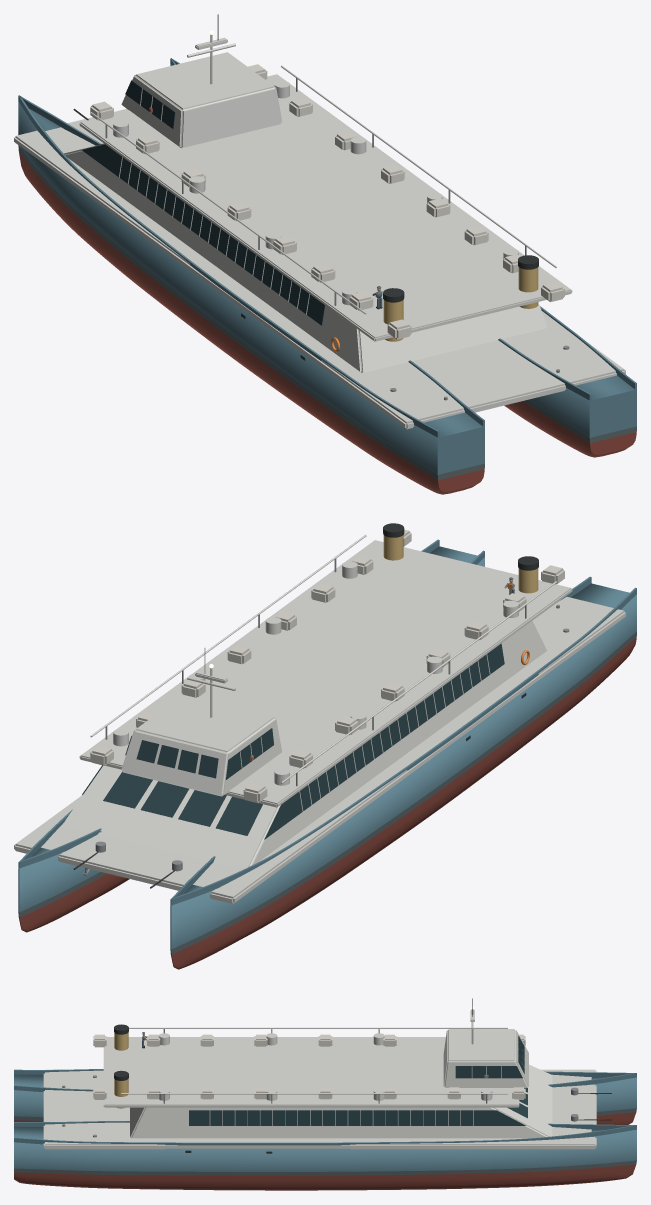
The model's file is ferry.glb.
The picture shows the model from 3 angles, top to bottom: view 1: azimuth 30°, elevation 25°; view 2: azimuth 150°, elevation 25°; view 3: azimuth 270°, elevation 25°; orthographic projection. The views are drawn at different scales.
Visible parts, largest first — view 1: white, hull, bottom, window, canvas, stripe, ochre; view 2: white, hull, window, bottom, canvas, stripe, ochre, black, metal; view 3: white, hull, bottom, window, stripe, canvas, ochre, black, metal.
Part boxes in pixels (left/top/right/bottom): white: left=14, top=34, right=625, bottom=429; hull: left=18, top=58, right=636, bottom=474; bottom: left=19, top=152, right=636, bottom=494; window: left=82, top=80, right=324, bottom=325; canvas: left=90, top=64, right=564, bottom=339; stripe: left=18, top=146, right=636, bottom=480; ochre: left=383, top=267, right=538, bottom=341; white: left=14, top=534, right=625, bottom=903; hull: left=18, top=539, right=636, bottom=949; window: left=82, top=643, right=504, bottom=839; bottom: left=19, top=637, right=636, bottom=969; canvas: left=90, top=529, right=564, bottom=803; stripe: left=18, top=631, right=636, bottom=954; ochre: left=383, top=535, right=538, bottom=593; black: left=73, top=523, right=538, bottom=888; metal: left=82, top=558, right=569, bottom=875; white: left=43, top=1009, right=596, bottom=1149; hull: left=14, top=1069, right=636, bottom=1171; bottom: left=14, top=1112, right=636, bottom=1190; window: left=189, top=1036, right=527, bottom=1125; stripe: left=14, top=1108, right=636, bottom=1175; canvas: left=93, top=1034, right=525, bottom=1099; ochre: left=114, top=1032, right=128, bottom=1108; black: left=114, top=1024, right=611, bottom=1153; metal: left=62, top=998, right=578, bottom=1137.
Bounding box in the file's own units: 17.07 × 16.6 × 58.
